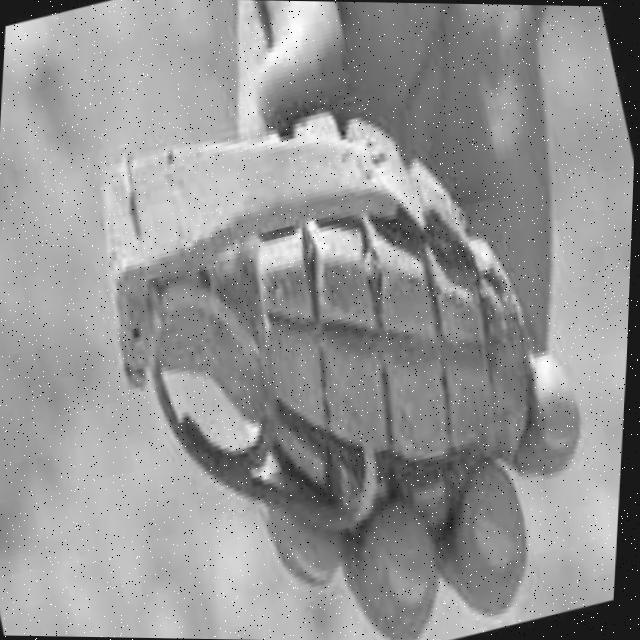grenade: (53, 51, 583, 594)
